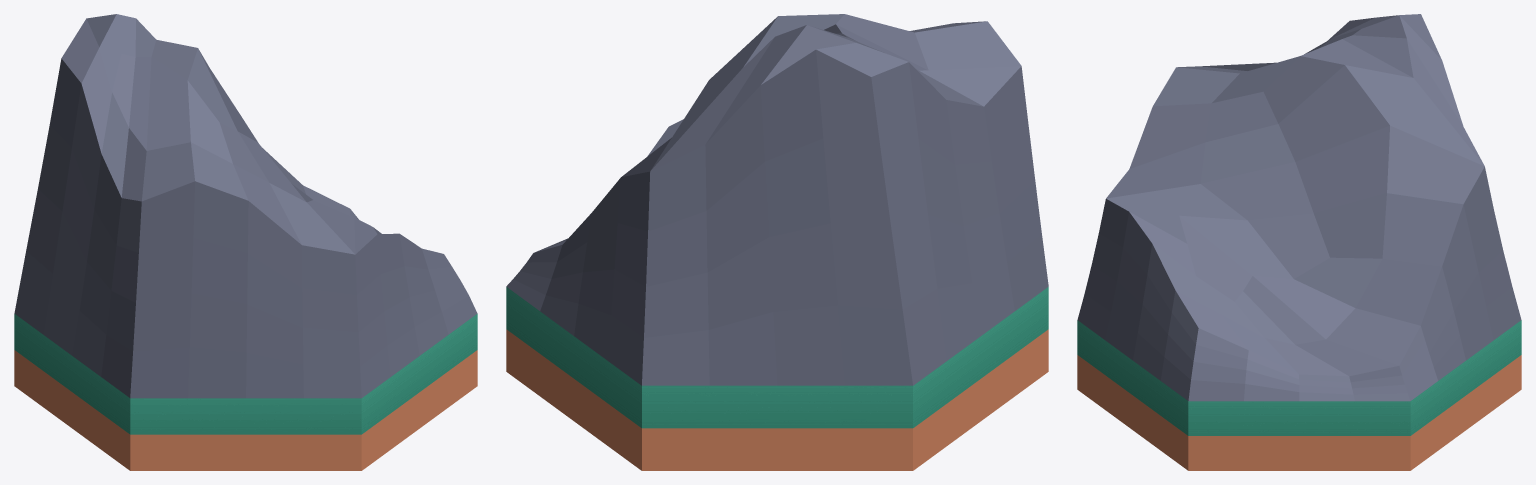
Rendered from stone-mountain.glb.
3 renders of one model, left to right at view 1: azimuth 30°, elevation 25°; view 2: azimuth 150°, elevation 25°; view 3: azimuth 270°, elevation 25°, orthographic. The views are drawn at different scales.
Parts seen in each view (by area): view 1: mountain; view 2: mountain; view 3: mountain.
Part boxes in pixels (box(x1,y1,x2,y2)): mountain: box(14, 14, 477, 470); mountain: box(506, 14, 1048, 470); mountain: box(1077, 14, 1521, 470).
Size of the model in its own units: 1 by 0.9711 by 1.15.
Materials: 1 (1 with a texture image).
